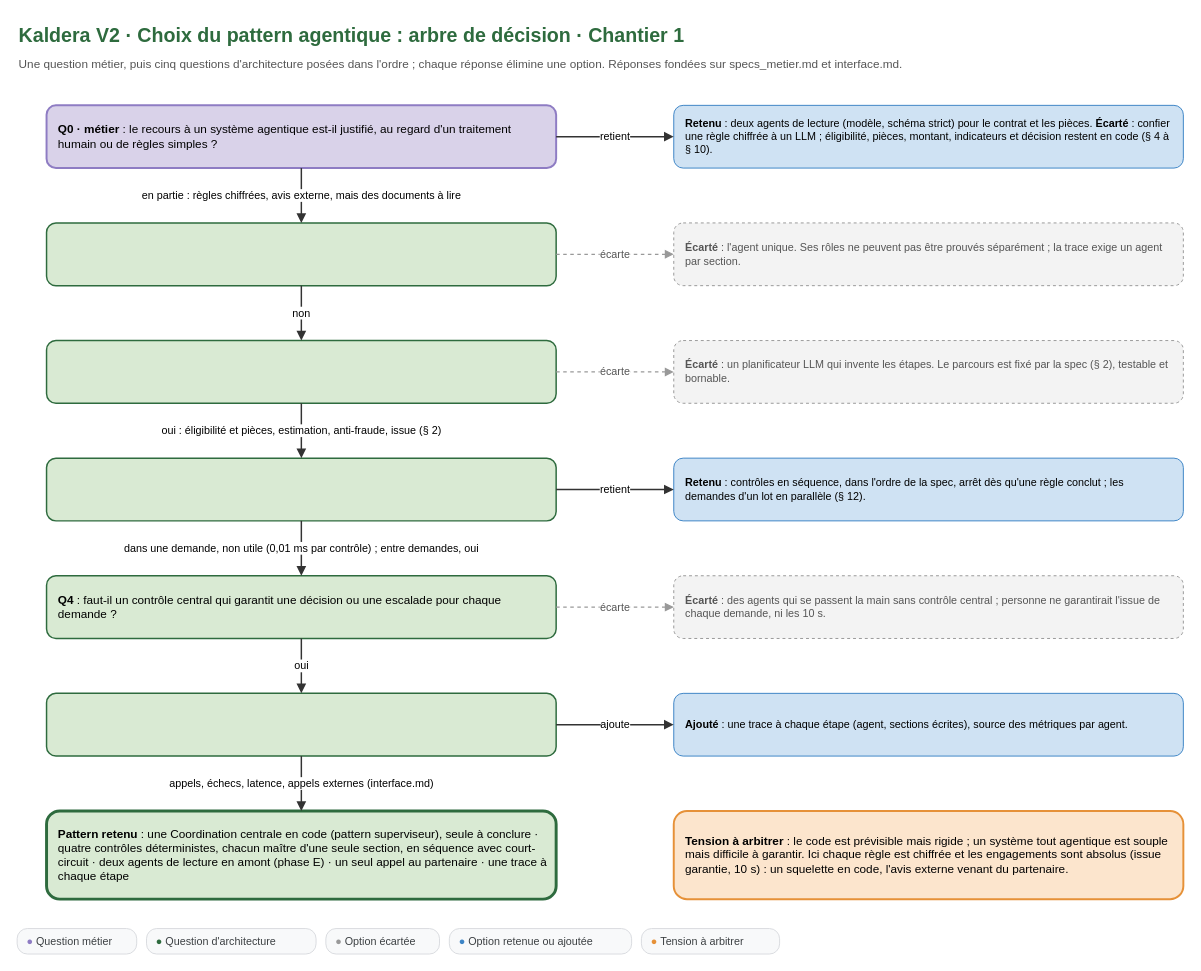
Some shapes in this 1201 by 971 pixel diagram are drawn without their labels. The box of each missing label's shape, as (x1, y1, x2, y2) in pixels:
Q1 : un seul agent avec 10 à 15 outils suffit-il ?: (45, 222, 556, 286)
Q2 : les étapes sont-elles connues d'avance, et dans quel ordre ?: (45, 339, 556, 404)
Q3 : des sous-tâches peuvent-elles s'exécuter en parallèle ?: (45, 457, 556, 521)
Q5 : quelles métriques par agent faut-il rendre visibles ?: (45, 692, 556, 756)
